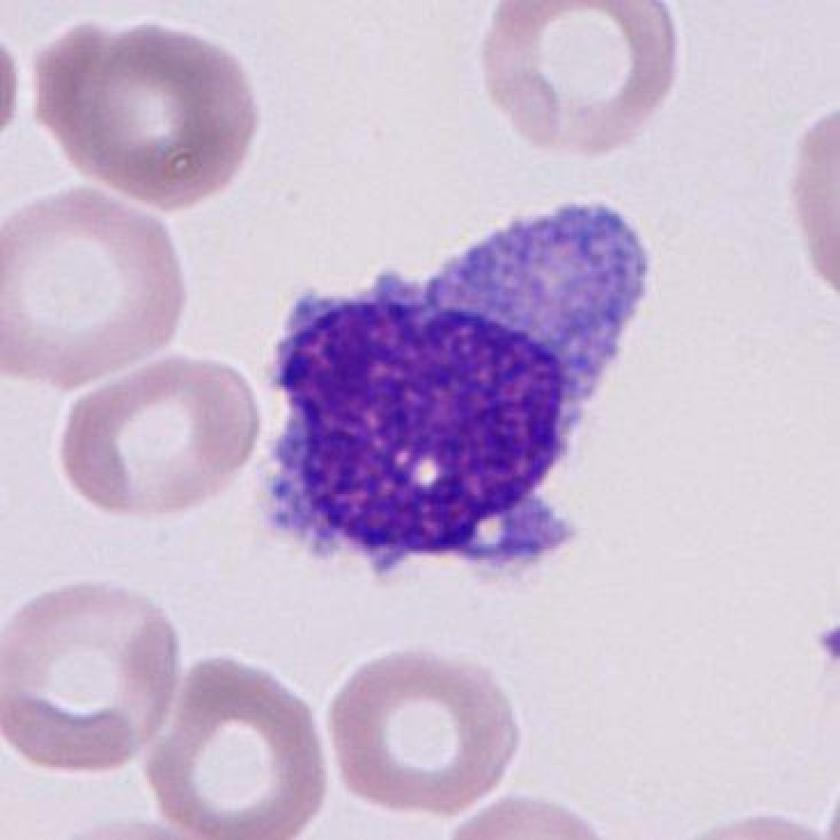monocyte: (242, 183, 667, 602)
